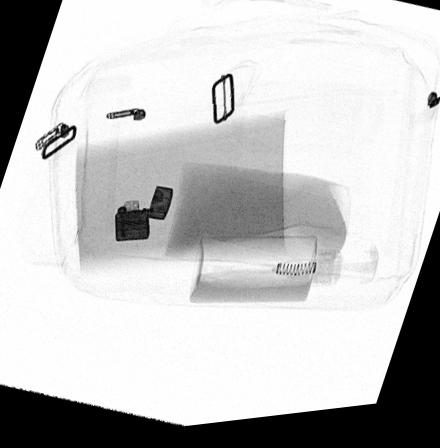Lighter: (114, 189, 173, 244)
